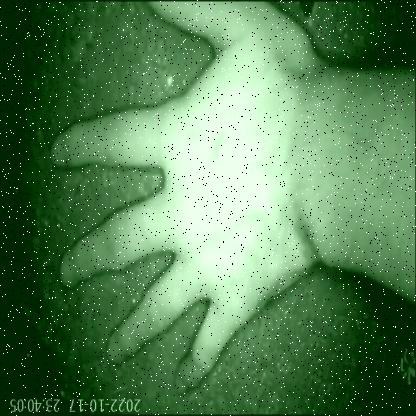hand: (41, 0, 416, 382)
